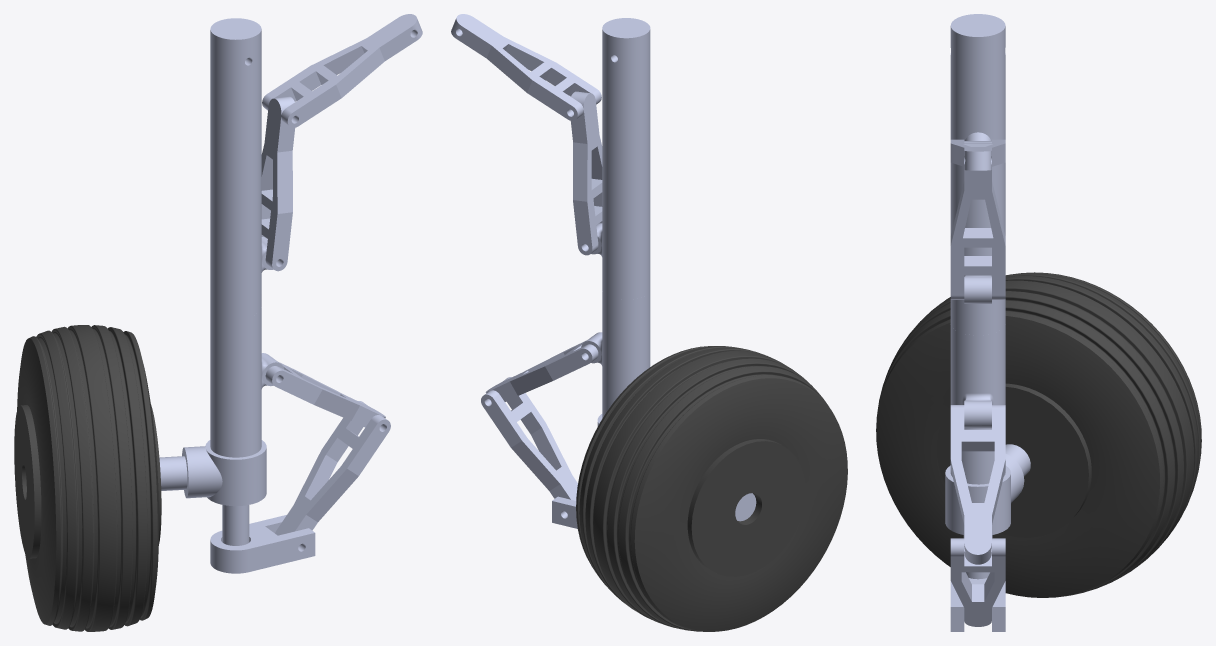
File: Assembly_Final.glb
3 renders of one model, left to right at view 1: azimuth 30°, elevation 25°; view 2: azimuth 150°, elevation 25°; view 3: azimuth 270°, elevation 25°, orthographic. The views are drawn at different scales.
Visible parts, largest first — view 1: WHEEL_MEE342-1, LEGMODEL part 1-1, LEGMODEL part 2-1, 2LEGPIECE-1, suspension hinge 2-1, suspension hinge_1-2, suspension hinge 2-2, LEGHINGEMEE342-1, suspension hinge_1-1; view 2: WHEEL_MEE342-1, LEGMODEL part 1-1, suspension hinge 2-1, LEGMODEL part 2-1, suspension hinge_1-2, suspension hinge 2-2, suspension hinge_1-1, LEGHINGEMEE342-1; view 3: WHEEL_MEE342-1, LEGMODEL part 1-1, LEGMODEL part 2-1, suspension hinge_1-1, suspension hinge 2-2, suspension hinge_1-2, 2LEGPIECE-1, suspension hinge 2-1, LEGHINGEMEE342-1.
Boxes of the visible parts, bbox=[...] form: WHEEL_MEE342-1: bbox=[14, 325, 161, 631]; LEGMODEL part 1-1: bbox=[210, 18, 273, 318]; LEGMODEL part 2-1: bbox=[210, 308, 284, 457]; 2LEGPIECE-1: bbox=[159, 440, 266, 545]; suspension hinge 2-1: bbox=[262, 14, 422, 127]; suspension hinge_1-2: bbox=[275, 401, 390, 535]; suspension hinge 2-2: bbox=[261, 96, 295, 271]; LEGHINGEMEE342-1: bbox=[210, 515, 315, 573]; suspension hinge_1-1: bbox=[265, 362, 385, 427]; WHEEL_MEE342-1: bbox=[576, 346, 847, 631]; LEGMODEL part 1-1: bbox=[591, 18, 650, 299]; suspension hinge 2-1: bbox=[451, 14, 601, 120]; LEGMODEL part 2-1: bbox=[581, 291, 650, 418]; suspension hinge_1-2: bbox=[481, 377, 577, 500]; suspension hinge 2-2: bbox=[570, 91, 602, 255]; suspension hinge_1-1: bbox=[485, 341, 598, 401]; LEGHINGEMEE342-1: bbox=[552, 496, 577, 528]; WHEEL_MEE342-1: bbox=[876, 272, 1201, 597]; LEGMODEL part 1-1: bbox=[950, 14, 1005, 335]; LEGMODEL part 2-1: bbox=[950, 324, 1005, 484]; suspension hinge_1-1: bbox=[950, 405, 1005, 564]; suspension hinge 2-2: bbox=[950, 132, 1005, 299]; suspension hinge_1-2: bbox=[950, 538, 1005, 626]; 2LEGPIECE-1: bbox=[945, 444, 1030, 579]; suspension hinge 2-1: bbox=[950, 139, 1005, 170]; LEGHINGEMEE342-1: bbox=[950, 578, 1005, 631].
Size of the model in its own units: 0.1687 by 0.2381 by 0.1131.
